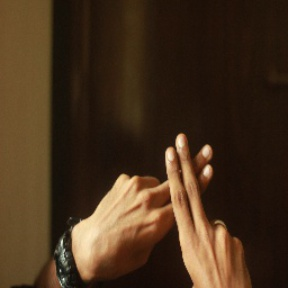F: (123, 122, 243, 249)
